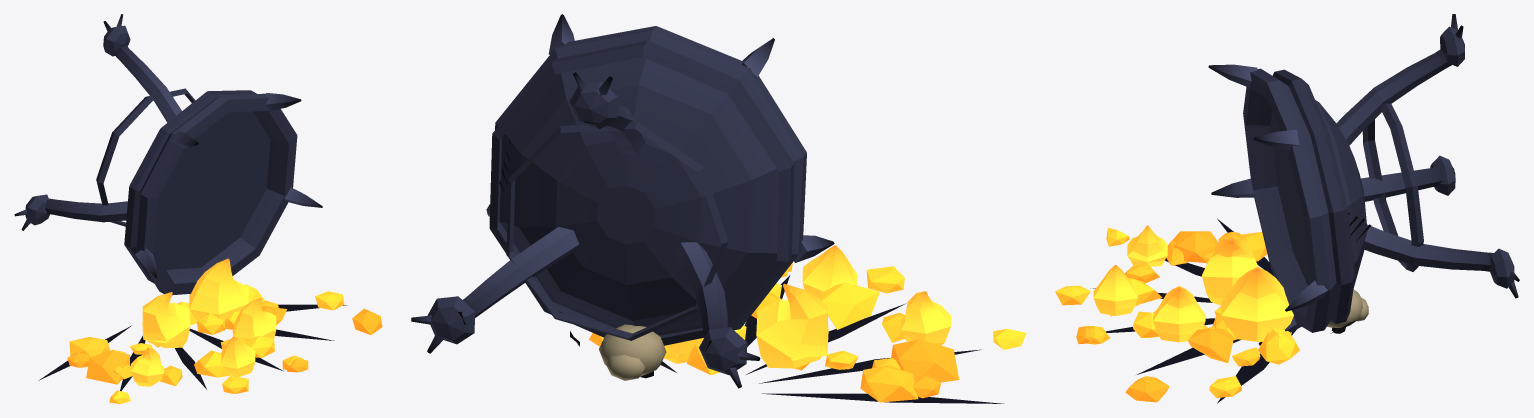
The model's file is brazier_spilled.glb.
3 views of the same model, side by side, from view 1: azimuth 30°, elevation 25°; view 2: azimuth 150°, elevation 25°; view 3: azimuth 270°, elevation 25° (orthographic). The views are drawn at different scales.
Parts seen in each view (by area): view 1: brazier_spilled.001, brazier_flame, brazier_coals; view 2: brazier_spilled.001, brazier_coals, brazier_flame; view 3: brazier_spilled.001, brazier_flame, brazier_coals.
Boxes of the visible parts, left/top/right/bottom form: brazier_spilled.001: left=14, top=14, right=347, bottom=390; brazier_flame: left=130, top=258, right=276, bottom=386; brazier_coals: left=67, top=284, right=382, bottom=403; brazier_spilled.001: left=411, top=14, right=1003, bottom=403; brazier_coals: left=589, top=262, right=1026, bottom=402; brazier_flame: left=664, top=245, right=950, bottom=368; brazier_spilled.001: left=1090, top=14, right=1519, bottom=403; brazier_flame: left=1093, top=225, right=1293, bottom=342; brazier_coals: left=1055, top=227, right=1299, bottom=402.
Bounding box in the file's own units: 2.08 × 1.61 × 2.19.
